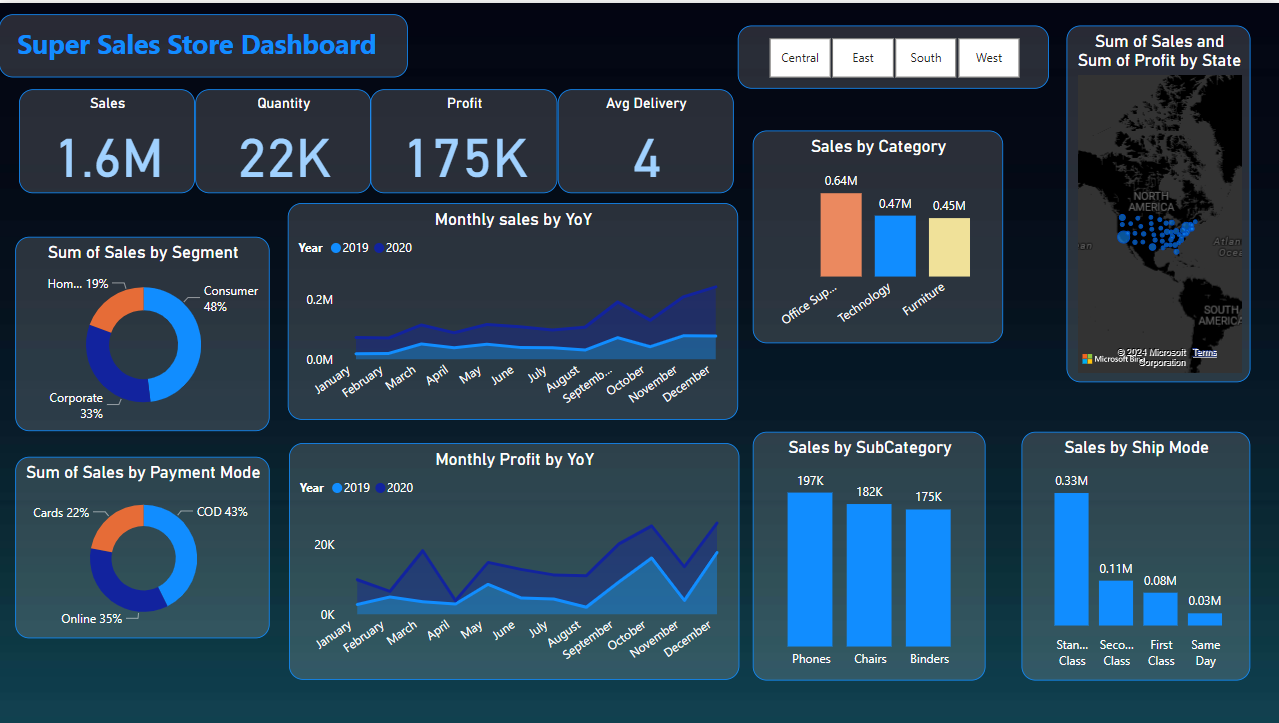

Layout of this report page (visuals, bound fields, positions):
{"tool":"powerbi","page":{"name":"Page 1","canvas":[1280,720],"ordinal":0},"visuals":[{"type":"clusteredColumnChart","title":" Sales by Category","fields":{"Category":["SuperStore_Sales_Dataset.Category"],"Y":["Sum(SuperStore_Sales_Dataset.Sales)"]},"box":[754.3,127.1,250,212.9],"z":0},{"type":"clusteredColumnChart","title":" Sales by SubCategory","fields":{"Category":["SuperStore_Sales_Dataset.Sub-Category"],"Y":["Sum(SuperStore_Sales_Dataset.Sales)"]},"box":[754.3,428.6,232.9,248.6],"z":1},{"type":"clusteredColumnChart","title":" Sales by Ship Mode","fields":{"Y":["Sum(SuperStore_Sales_Dataset.Sales)"],"Category":["SuperStore_Sales_Dataset.Ship Mode"]},"box":[1022.9,428.6,228.6,248.6],"z":2},{"type":"stackedAreaChart","title":"Monthly sales by YoY","fields":{"Y":["Sum(SuperStore_Sales_Dataset.Sales)"],"Category":["SuperStore_Sales_Dataset.Order Date.Variation.Date Hierarchy.Month"],"Series":["SuperStore_Sales_Dataset.Order Date.Variation.Date Hierarchy.Year"]},"box":[288.6,200,450,217.1],"z":3},{"type":"stackedAreaChart","title":"Monthly Profit by YoY","fields":{"Category":["SuperStore_Sales_Dataset.Order Date.Variation.Date Hierarchy.Month"],"Series":["SuperStore_Sales_Dataset.Order Date.Variation.Date Hierarchy.Year"],"Y":["Sum(SuperStore_Sales_Dataset.Profit)"]},"box":[290,440,450,237.1],"z":4},{"type":"map","fields":{"Category":["SuperStore_Sales_Dataset.State"],"Size":["Sum(SuperStore_Sales_Dataset.Sales)"]},"box":[1067.1,22.9,184.3,357.1],"z":5},{"type":"donutChart","fields":{"Category":["SuperStore_Sales_Dataset.Segment"],"Y":["Sum(SuperStore_Sales_Dataset.Sales)"]},"box":[15.7,234.3,254.3,194.3],"z":6},{"type":"donutChart","fields":{"Y":["Sum(SuperStore_Sales_Dataset.Sales)"],"Category":["SuperStore_Sales_Dataset.Payment Mode"]},"box":[15.7,454.3,254.3,181.4],"z":7},{"type":"slicer","fields":{"Values":["SuperStore_Sales_Dataset.Region"]},"box":[738.6,22.9,311.4,62.9],"z":8},{"type":"textbox","box":[0,11.4,408.6,62.9],"z":9},{"type":"card","title":"Sales","fields":{"Values":["Sum(SuperStore_Sales_Dataset.Sales)"]},"box":[20,85.7,175.7,104.3],"z":10},{"type":"card","title":"Profit","fields":{"Values":["Sum(SuperStore_Sales_Dataset.Profit)"]},"box":[371.4,85.7,187.1,104.3],"z":11},{"type":"card","title":"Quantity","fields":{"Values":["Sum(SuperStore_Sales_Dataset.Quantity)"]},"box":[195.7,85.7,175.7,104.3],"z":12},{"type":"card","title":"Avg Delivery","fields":{"Values":["Avg(SuperStore_Sales_Dataset.AvgDeliver)"]},"box":[558.6,85.7,175.7,104.3],"z":13}]}

Visuals, with their boxes in screenshot pixels (x1, y1, x2, y2), scaled from the page's 1280x720 canvas onto the 1279x723 screenshot:
" Sales by Category" clusteredColumnChart: Rect(754, 128, 1004, 341)
" Sales by SubCategory" clusteredColumnChart: Rect(754, 430, 986, 680)
" Sales by Ship Mode" clusteredColumnChart: Rect(1022, 430, 1251, 680)
"Monthly sales by YoY" stackedAreaChart: Rect(288, 201, 738, 419)
"Monthly Profit by YoY" stackedAreaChart: Rect(290, 442, 739, 680)
map - SuperStore_Sales_Dataset.State x Sum(SuperStore_Sales_Dataset.Sales): Rect(1066, 23, 1250, 382)
donutChart - SuperStore_Sales_Dataset.Segment x Sum(SuperStore_Sales_Dataset.Sales): Rect(16, 235, 270, 430)
donutChart - Sum(SuperStore_Sales_Dataset.Sales) x SuperStore_Sales_Dataset.Payment Mode: Rect(16, 456, 270, 638)
slicer - SuperStore_Sales_Dataset.Region: Rect(738, 23, 1049, 86)
textbox: Rect(0, 11, 408, 75)
"Sales" card: Rect(20, 86, 196, 191)
"Profit" card: Rect(371, 86, 558, 191)
"Quantity" card: Rect(196, 86, 371, 191)
"Avg Delivery" card: Rect(558, 86, 734, 191)
